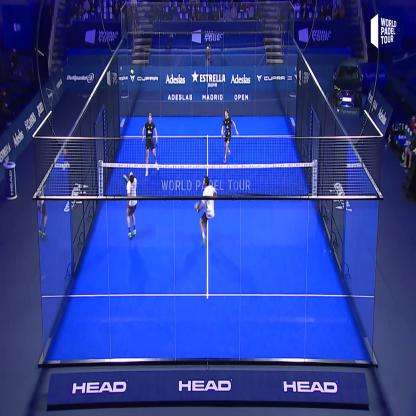ball: (129, 65, 135, 78)
